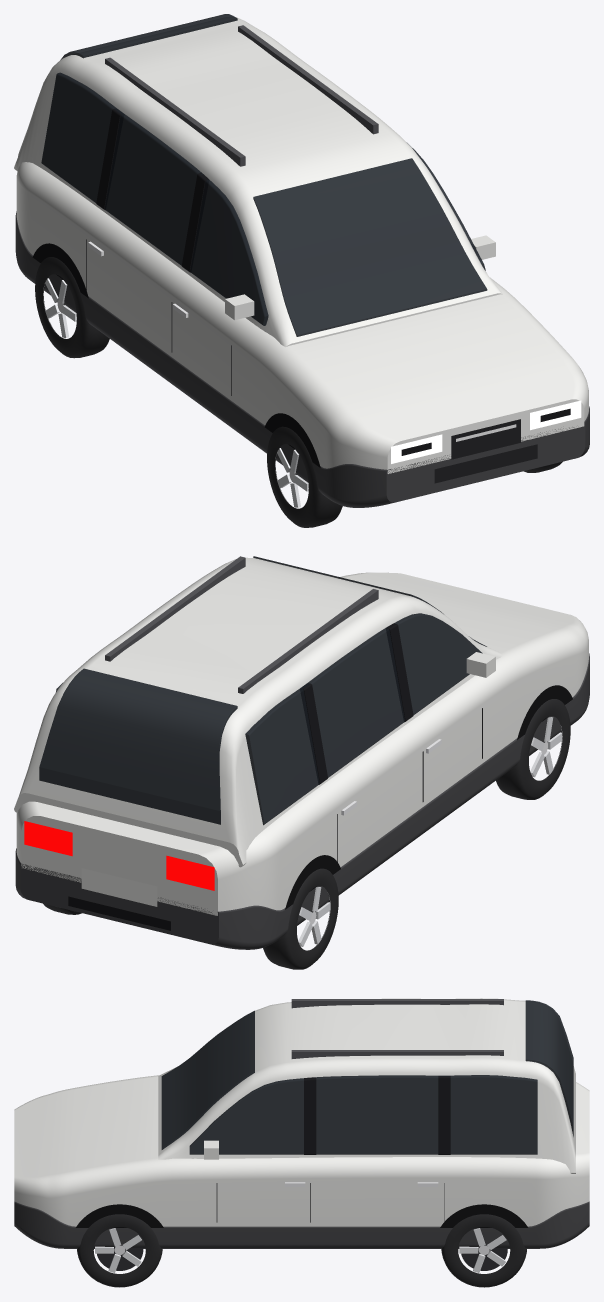
Rendered from toyota-avanza.glb.
3 renders of one model, top to bottom at view 1: azimuth 30°, elevation 25°; view 2: azimuth 150°, elevation 25°; view 3: azimuth 270°, elevation 25°, orthographic. The views are drawn at different scales.
Parts seen in each view (by area): view 1: Toyota Avanza; view 2: Toyota Avanza; view 3: Toyota Avanza.
Part boxes in pixels (<box>): Toyota Avanza: <box>14,14,589,527</box>; Toyota Avanza: <box>14,556,589,969</box>; Toyota Avanza: <box>14,998,589,1287</box>.
Size of the model in its own units: 1.73 by 1.73 by 4.2.
